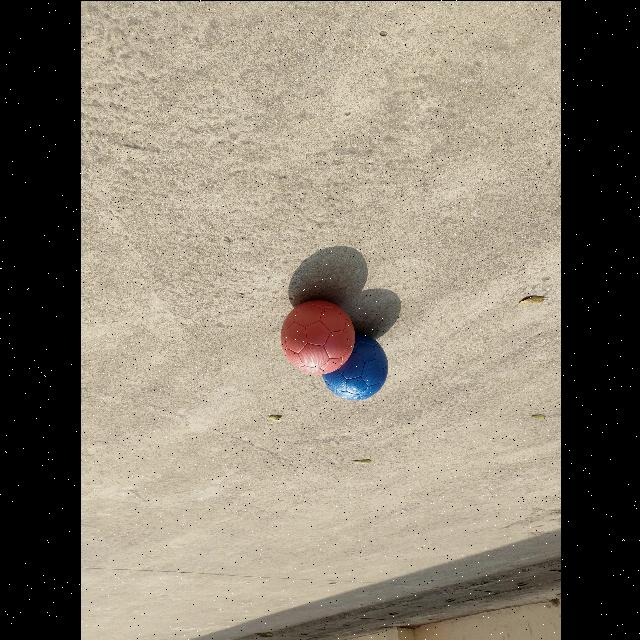B: (321, 332, 388, 400)
R: (279, 299, 354, 374)
